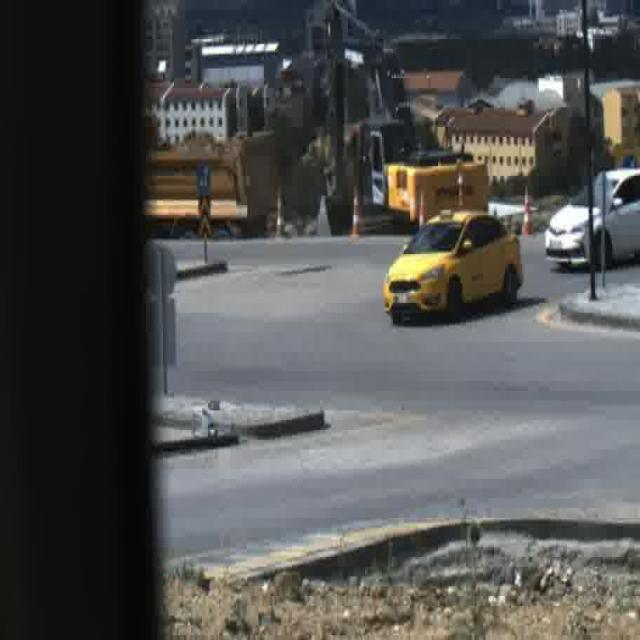Car: (386, 206, 522, 325), (544, 168, 640, 272)
